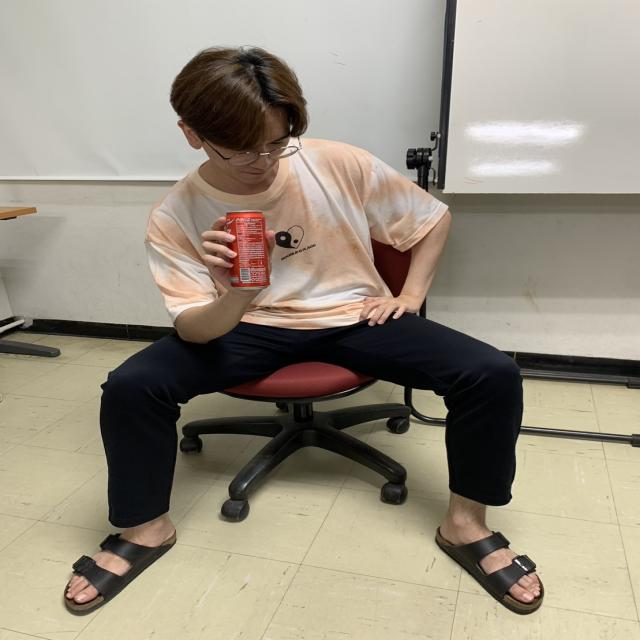can: (218, 208, 268, 292)
